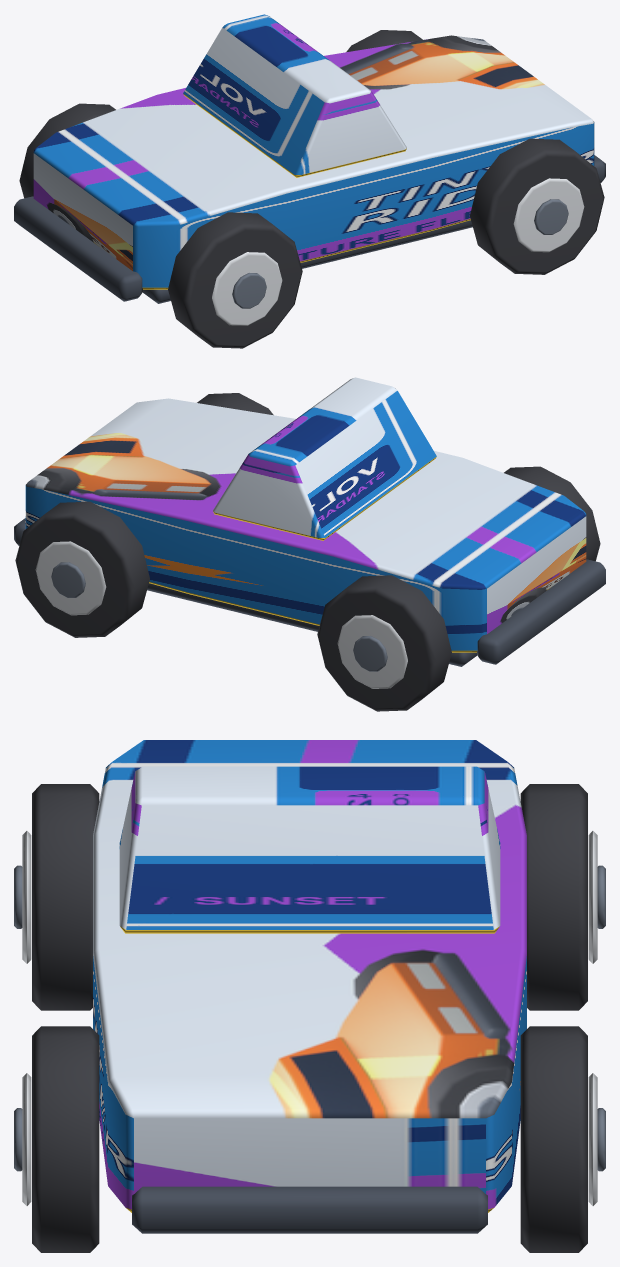
3 renders of one model, top to bottom at view 1: azimuth 30°, elevation 25°; view 2: azimuth 150°, elevation 25°; view 3: azimuth 270°, elevation 25°, orthographic. The views are drawn at different scales.
Parts seen in each view (by area): view 1: FF-03_connected_shell, FF-03_cabin, Tire, Tire.002, front bumper, Rim.002, Rim, Tire.001, underbody, Hub.002, Hub, Tire.003; view 2: FF-03_connected_shell, FF-03_cabin, Tire.001, Tire.003, front bumper, Rim.003, Rim.001, Tire, underbody, Hub.003, Hub.001, Tire.002; view 3: FF-03_connected_shell, FF-03_cabin, rear bumper, Tire.002, Tire.003, Tire, Tire.001, Rim, Rim.001, Rim.002, Rim.003.
Boxes of the visible parts, box(x1,y1,x2,y2) form: FF-03_connected_shell: box(33, 35, 594, 289); FF-03_cabin: box(183, 14, 406, 177); Tire: box(168, 212, 302, 348); Tire.002: box(470, 138, 604, 274); front bumper: box(14, 196, 142, 301); Rim.002: box(513, 178, 584, 252); Rim: box(212, 252, 282, 325); Tire.001: box(19, 103, 115, 198); underbody: box(142, 220, 472, 303); Hub.002: box(534, 199, 568, 234); Hub: box(232, 273, 266, 308); Tire.003: box(346, 30, 422, 52); FF-03_connected_shell: box(25, 398, 586, 652); FF-03_cabin: box(213, 377, 436, 540); Tire.001: box(317, 575, 451, 711); Tire.003: box(15, 501, 149, 637); front bumper: box(477, 559, 605, 664); Rim.003: box(35, 541, 106, 615); Rim.001: box(337, 615, 407, 688); Tire: box(504, 466, 600, 561); underbody: box(147, 583, 477, 666); Hub.003: box(51, 562, 85, 597); Hub.001: box(353, 636, 387, 671); Tire.002: box(197, 393, 273, 415); FF-03_connected_shell: box(93, 740, 526, 1212); FF-03_cabin: box(119, 766, 500, 933); rear bumper: box(132, 1186, 487, 1233); Tire.002: box(32, 1026, 99, 1252); Tire.003: box(520, 1026, 587, 1252); Tire: box(32, 784, 99, 1010); Tire.001: box(520, 784, 587, 1010); Rim: box(22, 831, 31, 963); Rim.001: box(588, 831, 597, 963); Rim.002: box(22, 1073, 31, 1205); Rim.003: box(588, 1073, 597, 1205).
Bounding box in the file's own units: 359 × 140 × 229.
